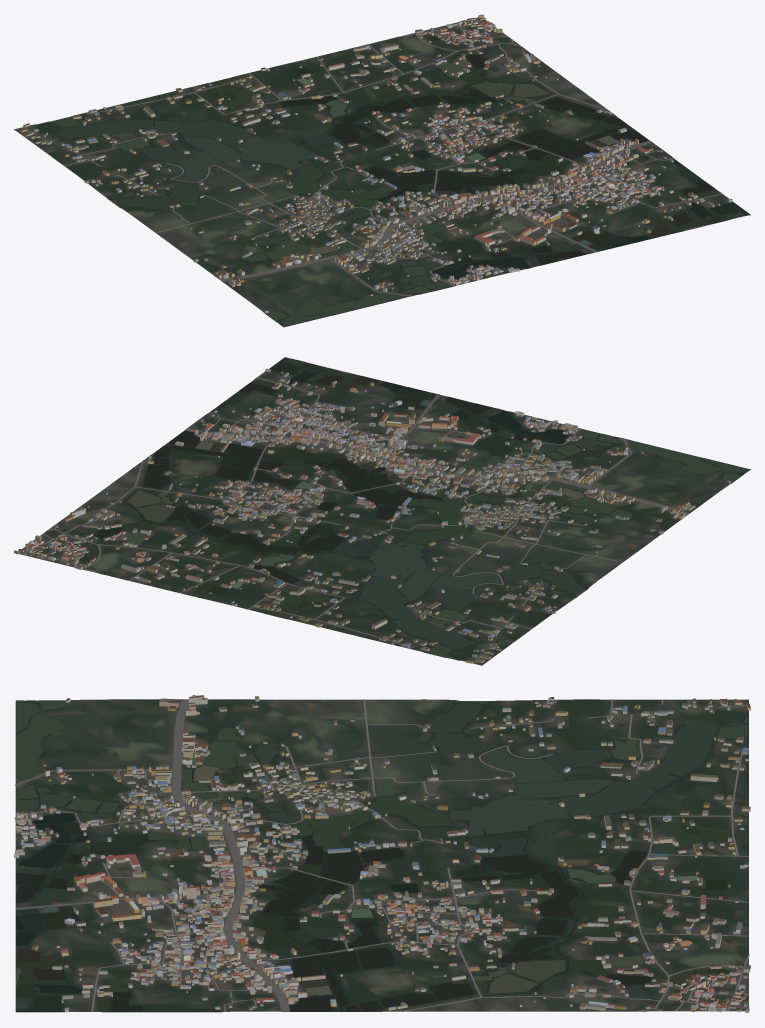
3 renders of one model, top to bottom at view 1: azimuth 30°, elevation 25°; view 2: azimuth 150°, elevation 25°; view 3: azimuth 270°, elevation 25°, orthographic. The views are drawn at different scales.
Visible parts, largest first — view 1: ground, water, buildings, roads; view 2: ground, water, buildings, roads; view 3: ground, water, buildings, roads.
Boxes of the visible parts, <box> form: ground: <box>14,17,750,327</box>; water: <box>38,36,749,326</box>; buildings: <box>19,14,732,312</box>; roads: <box>22,18,722,296</box>; ground: <box>16,358,750,665</box>; water: <box>72,357,749,659</box>; buildings: <box>14,368,730,663</box>; roads: <box>21,377,689,663</box>; ground: <box>15,699,748,1012</box>; water: <box>15,700,748,1011</box>; buildings: <box>14,695,750,1012</box>; roads: <box>14,699,749,1011</box>.
Bounding box in the file's own units: 1413 × 27.88 × 1409.
